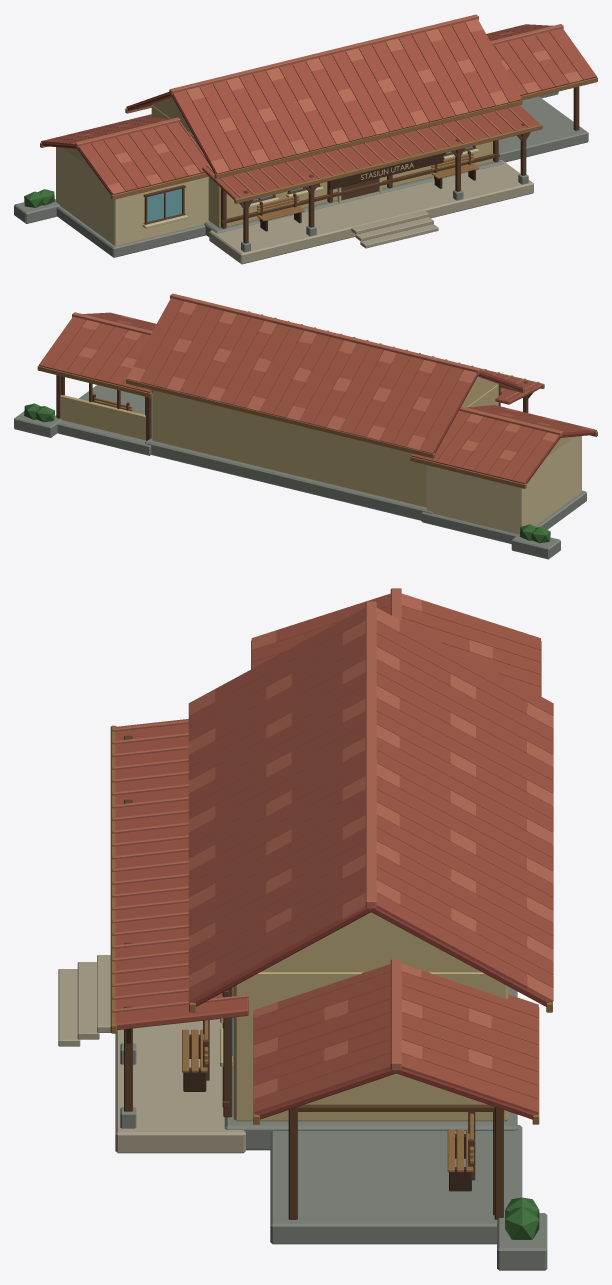
The model's file is station-utara.glb.
3 renders of one model, top to bottom at view 1: azimuth 30°, elevation 25°; view 2: azimuth 150°, elevation 25°; view 3: azimuth 270°, elevation 25°, orthographic. The views are drawn at different scales.
Visible parts, largest first — view 1: GEO-station-utara.001; view 2: GEO-station-utara.001; view 3: GEO-station-utara.001.
Part boxes in pixels (x1,y1,x2,y2): GEO-station-utara.001: (14, 14, 597, 264); GEO-station-utara.001: (14, 293, 597, 559); GEO-station-utara.001: (58, 588, 553, 1270).
Bounding box in the file's own units: 26.9 × 6.27 × 10.82.
